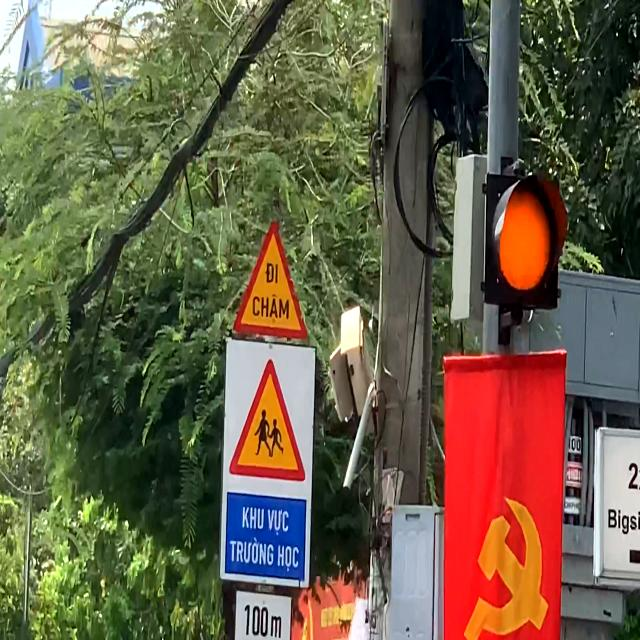W.225: (228, 355, 310, 486)
W.245a: (230, 216, 313, 341)
